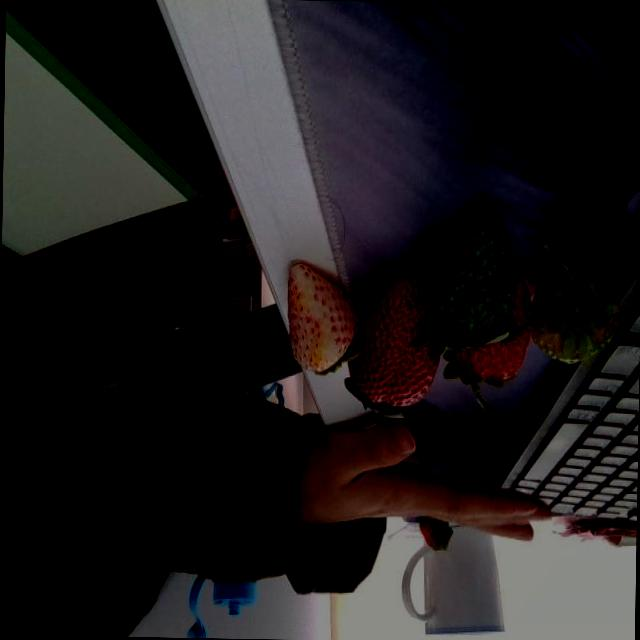Strawberry: (346, 275, 439, 411), (424, 208, 515, 338), (450, 274, 531, 386), (285, 265, 357, 376)
